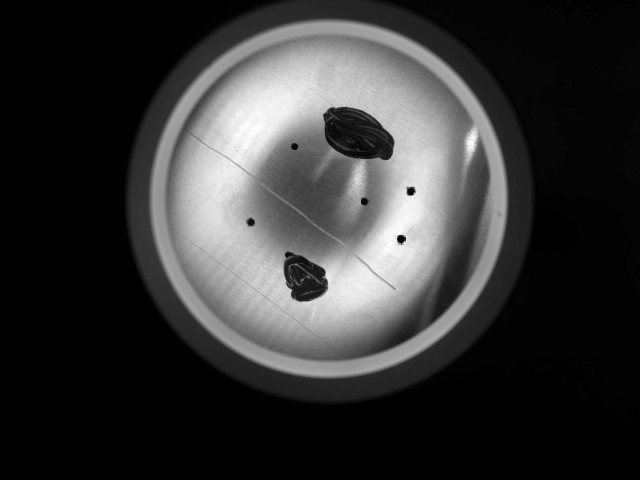ca_shang: (183, 121, 409, 300), (176, 220, 350, 361)
zang_wu: (319, 93, 401, 171), (278, 240, 337, 315)
zhen_kong: (398, 181, 424, 202), (239, 212, 261, 235), (390, 230, 414, 250), (353, 192, 377, 211), (285, 137, 305, 157)
